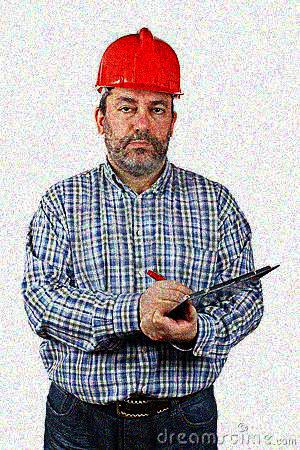helmet: (95, 28, 184, 173)
